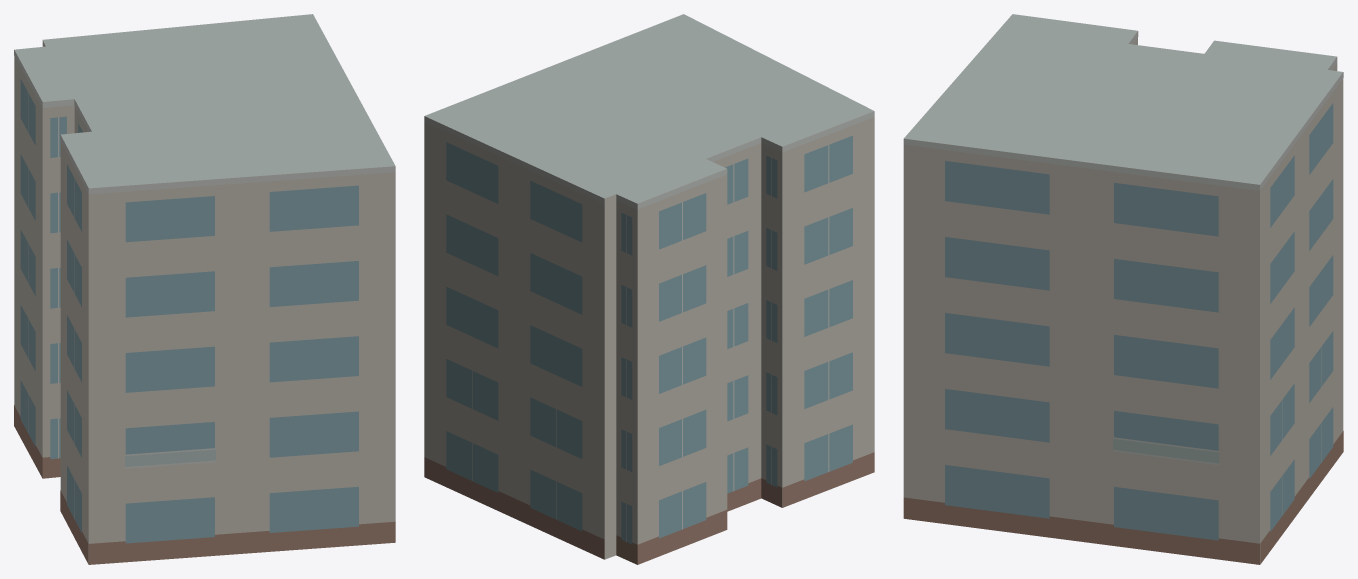
Rendered from survey-upis-32889429.glb.
3 renders of one model, left to right at view 1: azimuth 30°, elevation 25°; view 2: azimuth 150°, elevation 25°; view 3: azimuth 270°, elevation 25°, orthographic. The views are drawn at different scales.
Parts seen in each view (by area): view 1: survey-upis-32889429.tmp; view 2: survey-upis-32889429.tmp; view 3: survey-upis-32889429.tmp.
Boxes of the visible parts, <box> form: survey-upis-32889429.tmp: <box>14,14,395,564</box>; survey-upis-32889429.tmp: <box>424,14,874,564</box>; survey-upis-32889429.tmp: <box>903,14,1343,564</box>.
Size of the model in its own units: 14.81 by 15.35 by 16.11.
